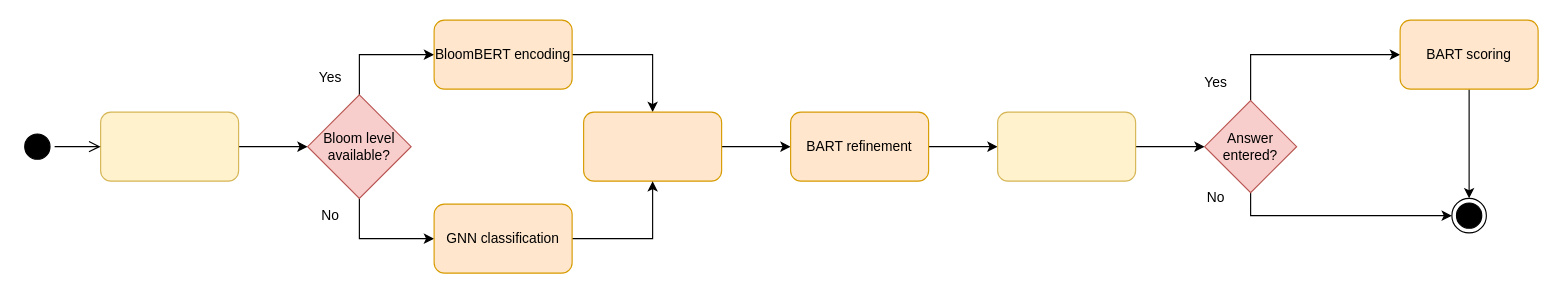
The diagram is 1558 pixels wide and 293 high, and some of its shapes have lost their labels. The shapes that lost their labels are listed below. From the top down, each one's centre as x and y in pixels, then its label:
At [169,146]: "Input: context, answer, (optional) bloom level".
At [652,146]: "FLAN-T5 question generation".
At [1066,146]: "Output: Question".
